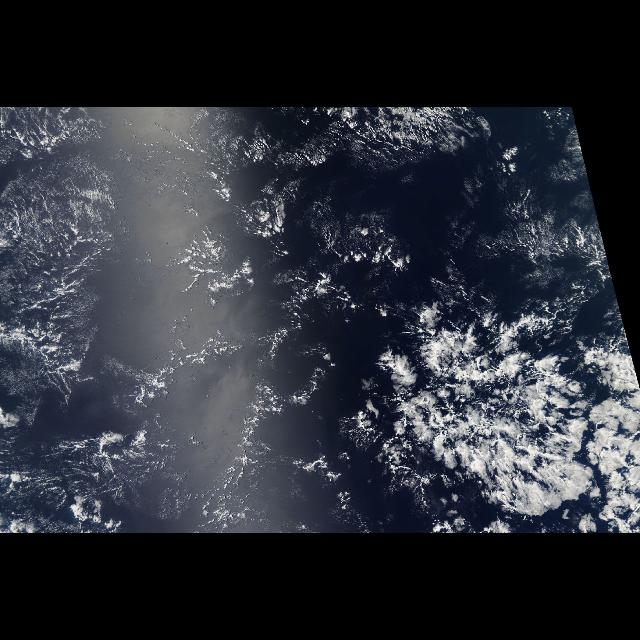Flower: (360, 306, 638, 532)
Sugar: (2, 109, 604, 528)
